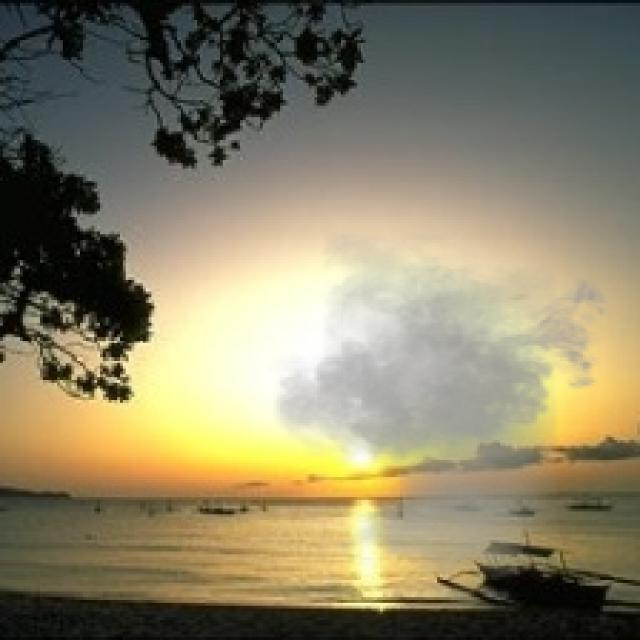smoke: (260, 231, 620, 580)
